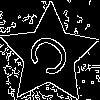C: (24, 29, 81, 86)
